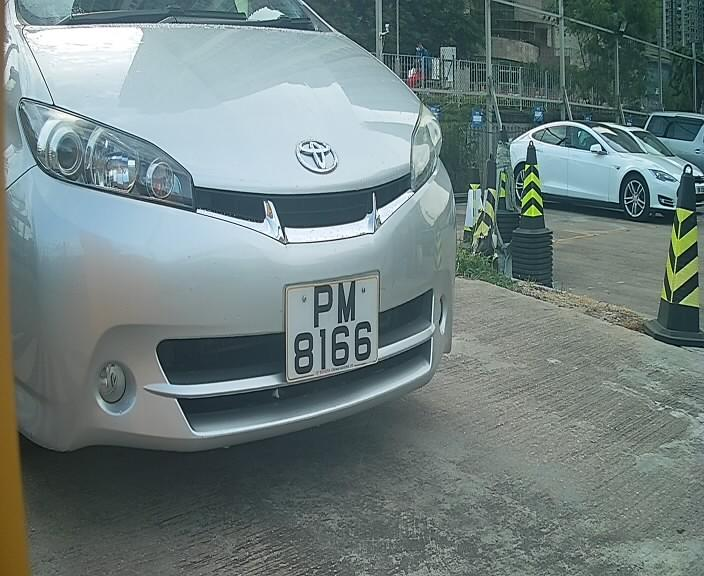License Plate: (280, 265, 393, 394)
